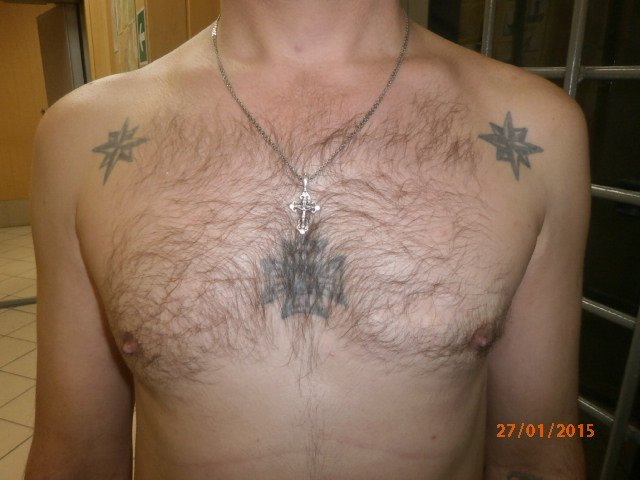tatu4_zvezda: (477, 110, 547, 182), (88, 118, 152, 184)
